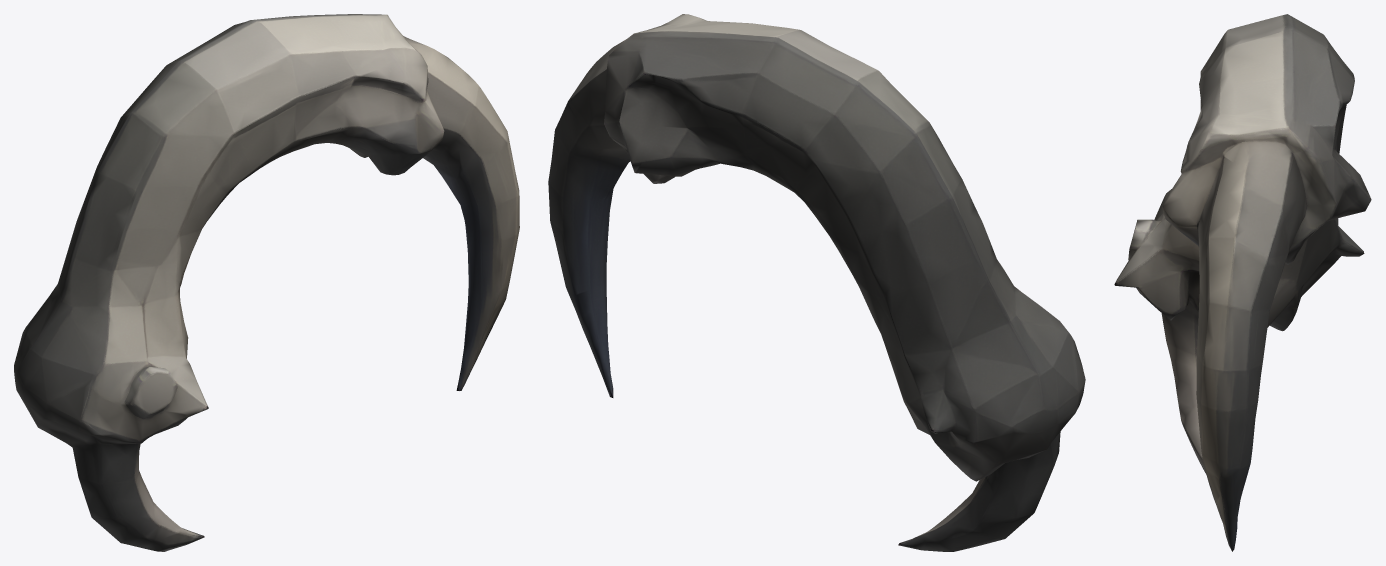
The model's file is claw.glb.
3 views of the same model, side by side, from view 1: azimuth 30°, elevation 25°; view 2: azimuth 150°, elevation 25°; view 3: azimuth 270°, elevation 25° (orthographic). The views are drawn at different scales.
Parts seen in each view (by area): view 1: world; view 2: world; view 3: world.
Part boxes in pixels (x1,y1,x2,y2): world: [14, 14, 519, 551]; world: [548, 14, 1085, 551]; world: [1114, 14, 1371, 551].
Size of the model in its own units: 1 by 0.9474 by 0.4298.
Materials: 1 (1 with a texture image).
